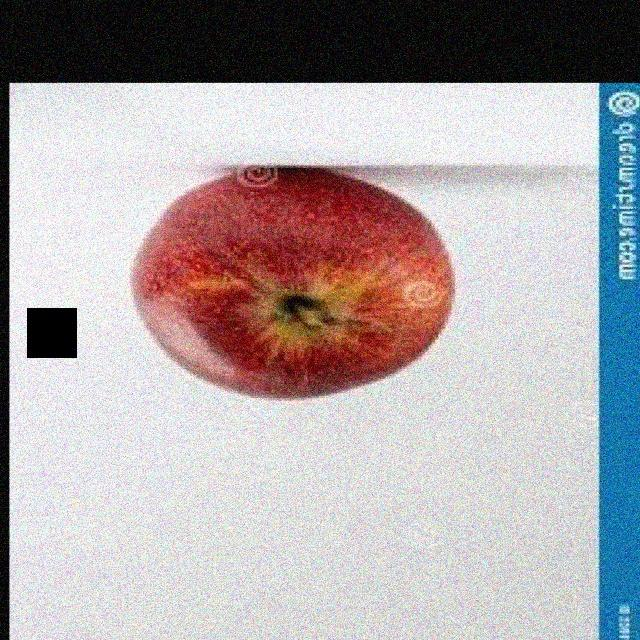red apple: (123, 166, 463, 405)
